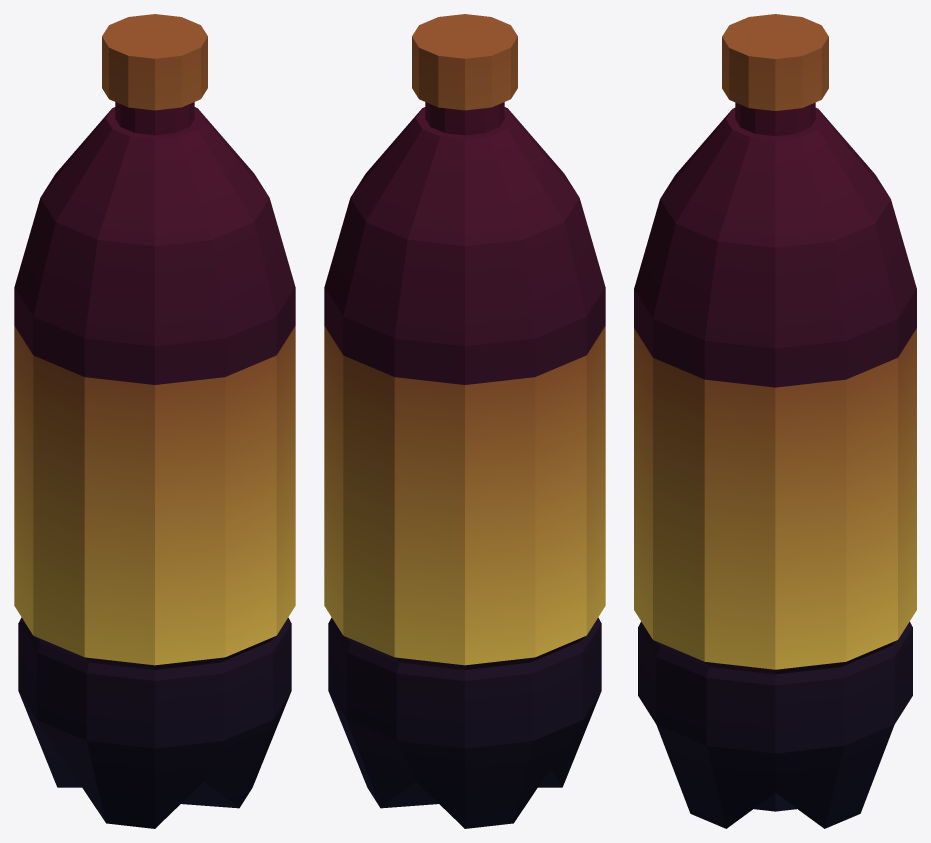
File: pepsi.glb
3 renders of one model, left to right at view 1: azimuth 30°, elevation 25°; view 2: azimuth 150°, elevation 25°; view 3: azimuth 270°, elevation 25°, orthographic.
Parts seen in each view (by area): view 1: Pepsi; view 2: Pepsi; view 3: Pepsi.
Part boxes in pixels (x1,y1,x2,y2): Pepsi: [14, 14, 295, 828]; Pepsi: [324, 14, 605, 828]; Pepsi: [634, 14, 916, 828].
Size of the model in its own units: 0.7466 by 2.2 by 0.7466.
1 material, 1 textured.
